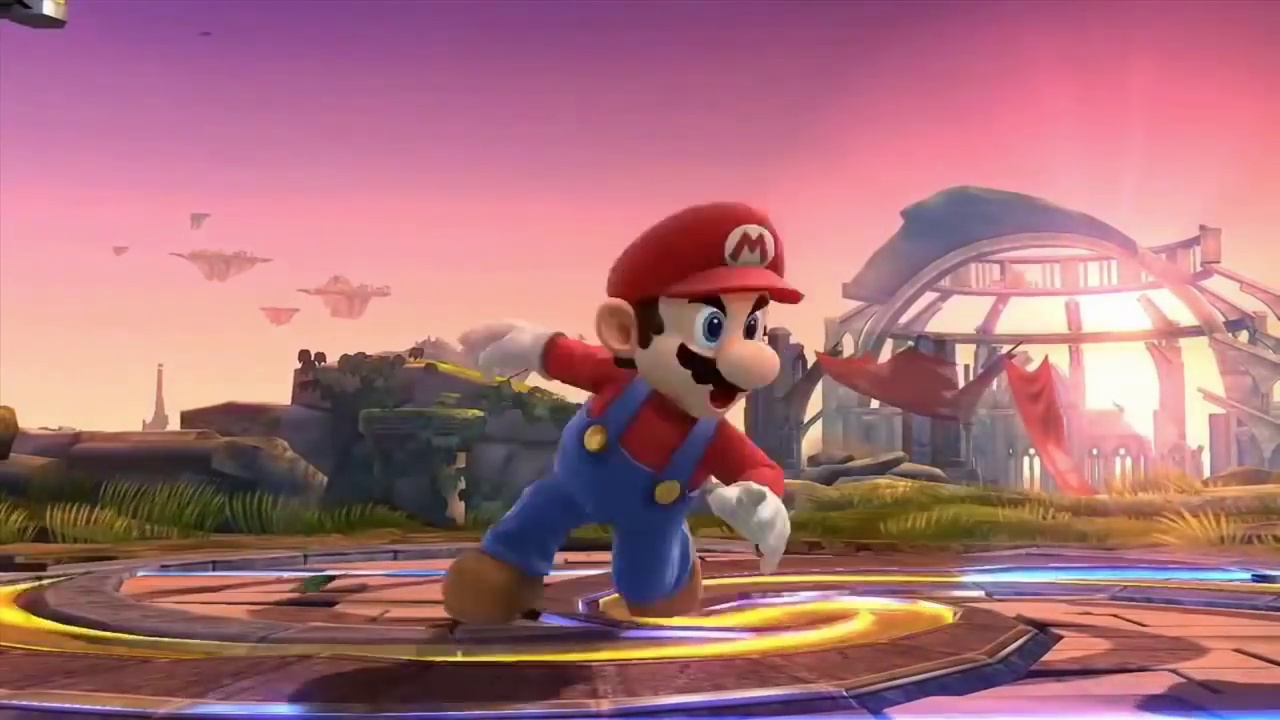Mario: (442, 205, 806, 617)
